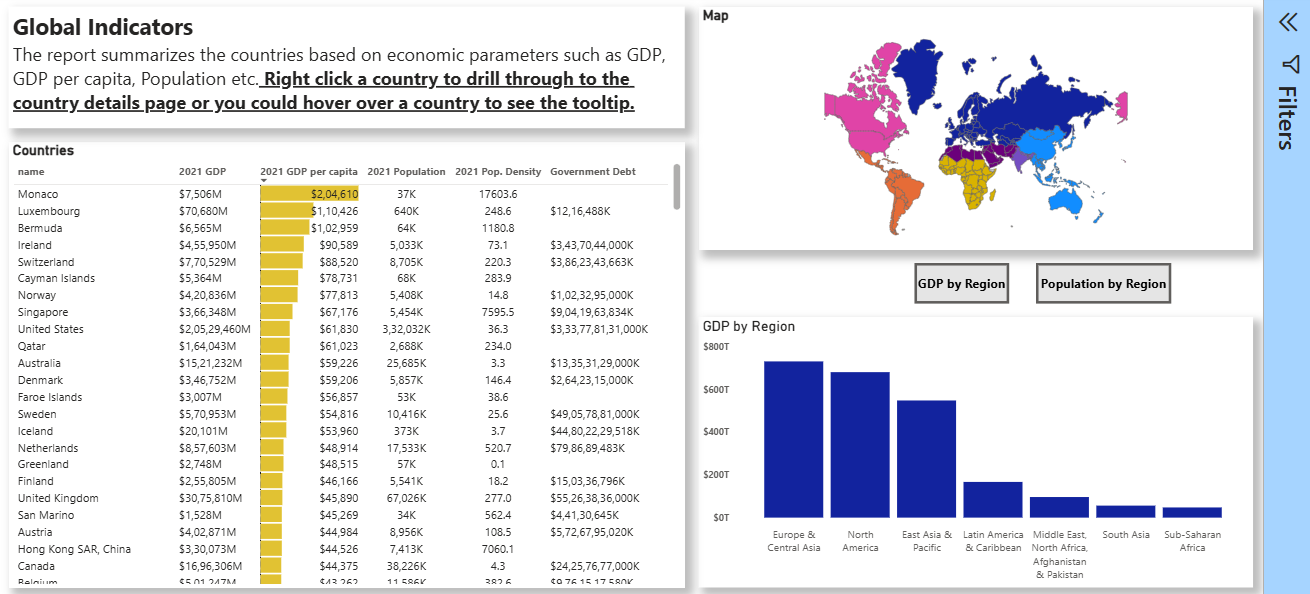

The page's visual inventory and layout, read from the dashboard file:
{"tool":"powerbi","page":{"name":"Global Indicators","canvas":[1500,720],"ordinal":0},"visuals":[{"type":"clusteredColumnChart","fields":{"Category":["Countries.Region"],"Y":["_Measures.GDP"]},"box":[832,384,656,320],"z":1000},{"type":"shapeMap","title":"Map","fields":{"Category":["Countries.iso2Code"],"Series":["Countries.Region"],"Value":["CountNonNull(Countries.id)"]},"box":[832,16,656,288],"z":3000},{"type":"tableEx","title":"Countries","fields":{"Values":["Countries.name","_Measures.2021 GDP","_Measures.2021 GDP per capita","_Measures.2021 Population","_Measures.2021 Population Density","_Measures.Government Debt"]},"box":[16,176,800,528],"z":4000},{"type":"textbox","box":[16,16,800,144],"z":5000},{"type":"actionButton","title":"POP","box":[1232,320,160,48],"z":5500},{"type":"actionButton","title":"GDP by Region","box":[1088,320,112,48],"z":6000}]}

Visuals, with their boxes on the page's 1500x720 design canvas (x1, y1, x2, y2). These are canvas units, not pixel positions in the 1310x594 screenshot, which may show the page scaled, cropped or inside an application window:
clusteredColumnChart - Countries.Region x _Measures.GDP: 832,384,1488,704
"Map" shapeMap: 832,16,1488,304
"Countries" tableEx: 16,176,816,704
textbox: 16,16,816,160
"POP" actionButton: 1232,320,1392,368
"GDP by Region" actionButton: 1088,320,1200,368
